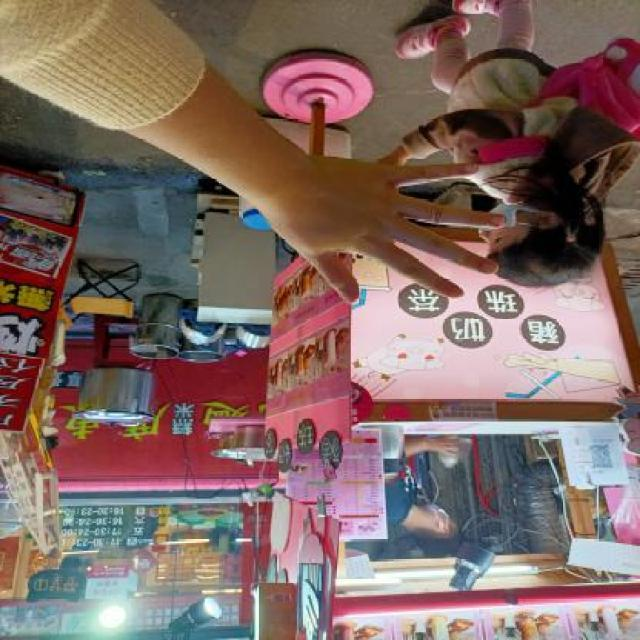bare_hand: (238, 142, 514, 316)
